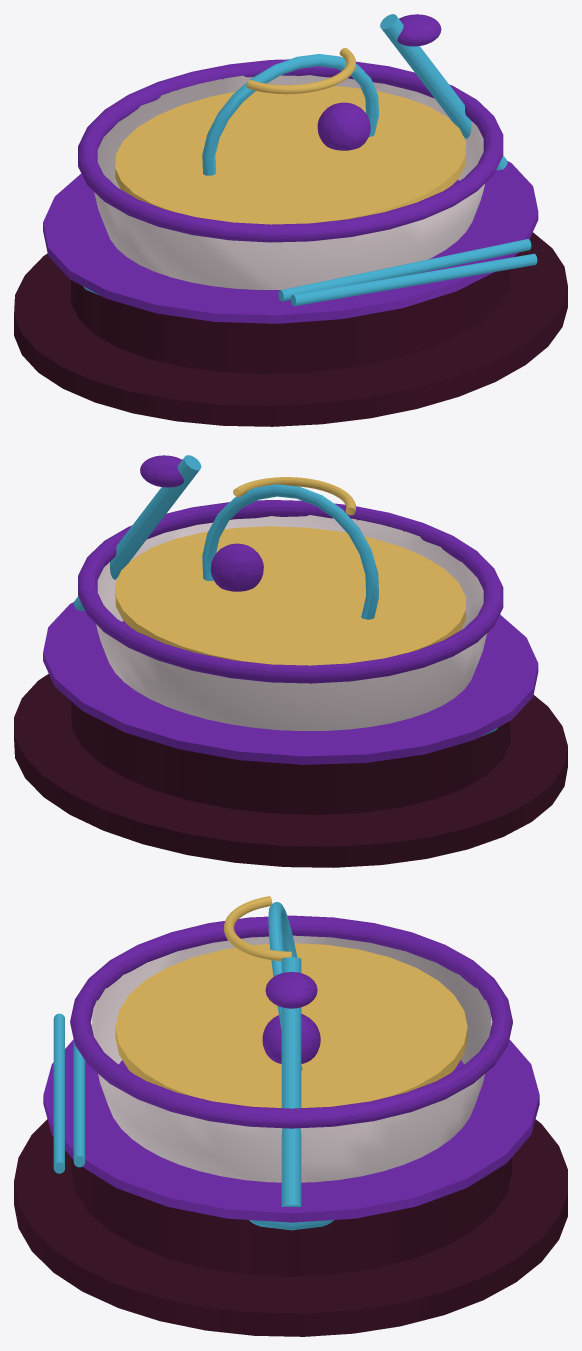
The model's file is 0336_揭秘食物图鉴_蓝纹奶酪.glb.
3 views of the same model, one above another, from view 1: azimuth 30°, elevation 25°; view 2: azimuth 150°, elevation 25°; view 3: azimuth 270°, elevation 25° (orthographic). The views are drawn at different scales.
Parts seen in each view (by area): view 1: card_0336; view 2: card_0336; view 3: card_0336.
Part boxes in pixels (bbox=[...]): card_0336: bbox=[14, 14, 567, 426]; card_0336: bbox=[14, 455, 567, 867]; card_0336: bbox=[14, 896, 567, 1336].
Bounding box in the file's own units: 1.83 × 1 × 1.62.
